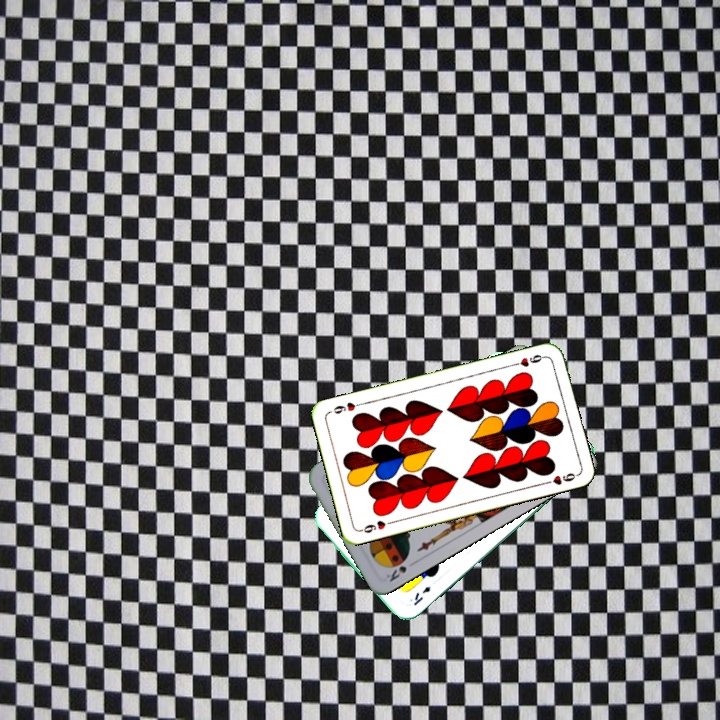EK: (409, 582, 433, 608)
H9: (356, 516, 396, 536), (508, 350, 548, 369)
SK: (382, 554, 411, 584)
